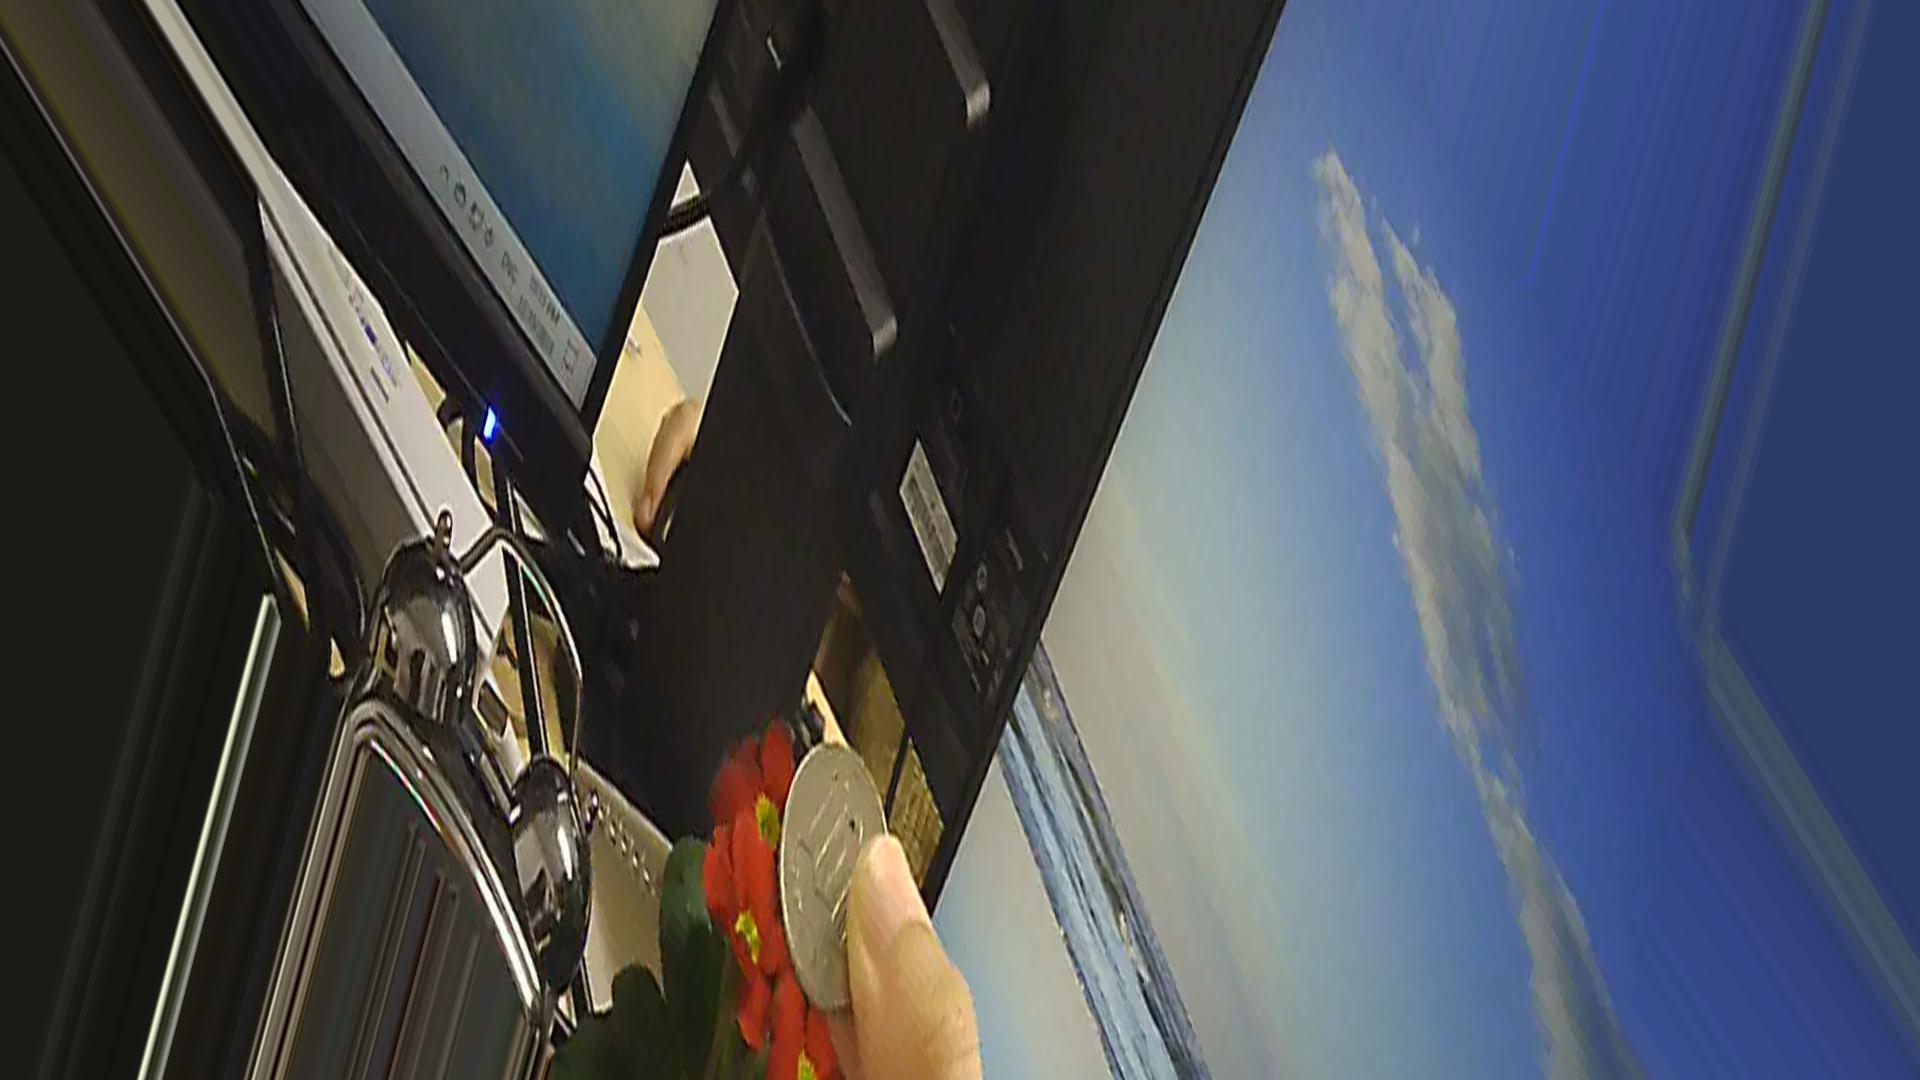100 Yen: (783, 729, 916, 1021)
